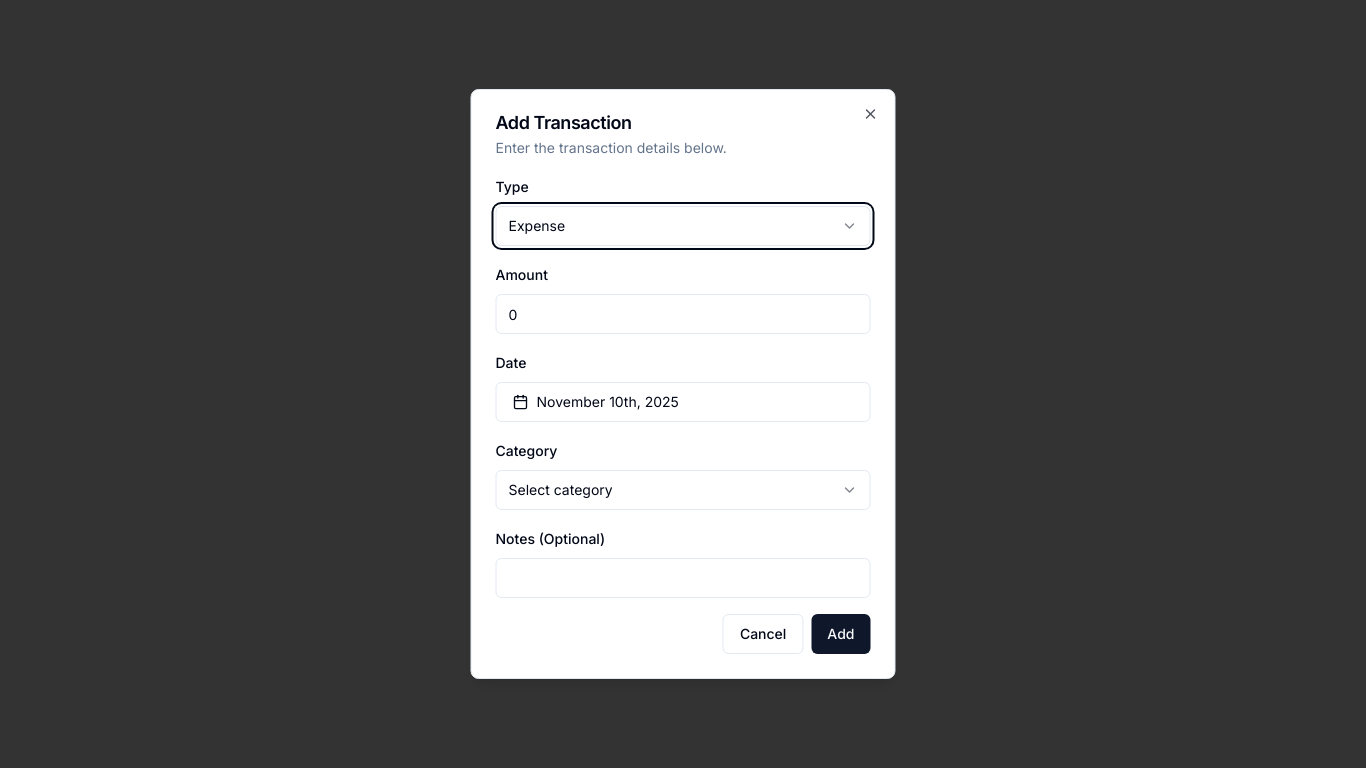
Test: TransactionForm › validates required fields
The width and height of the screenshot is (1366, 768).
Step 1. Click the button "Add" → {"x": 841, "y": 634}, box left=811, top=614, right=870, bottom=654
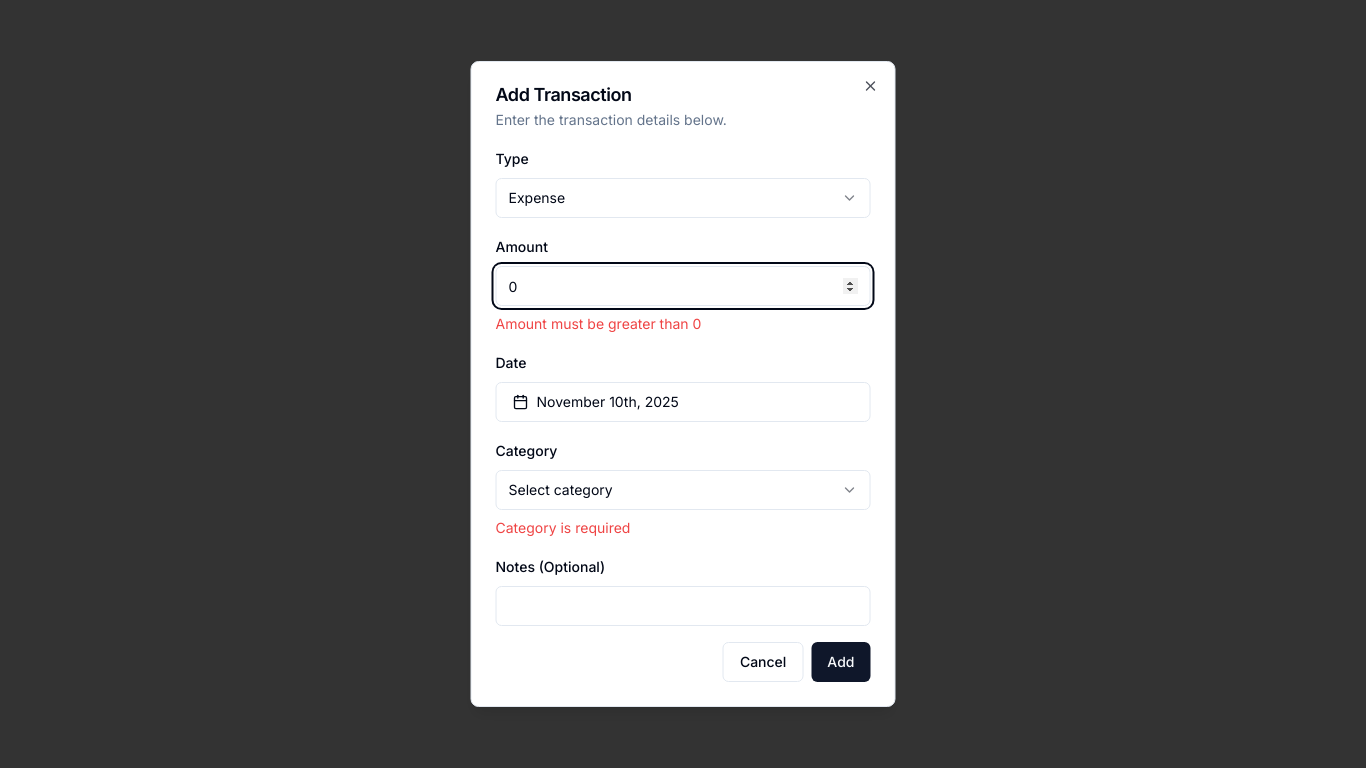
Expected: the text "Amount must be greater than 0" is shown, left=496, top=315, right=701, bottom=332
